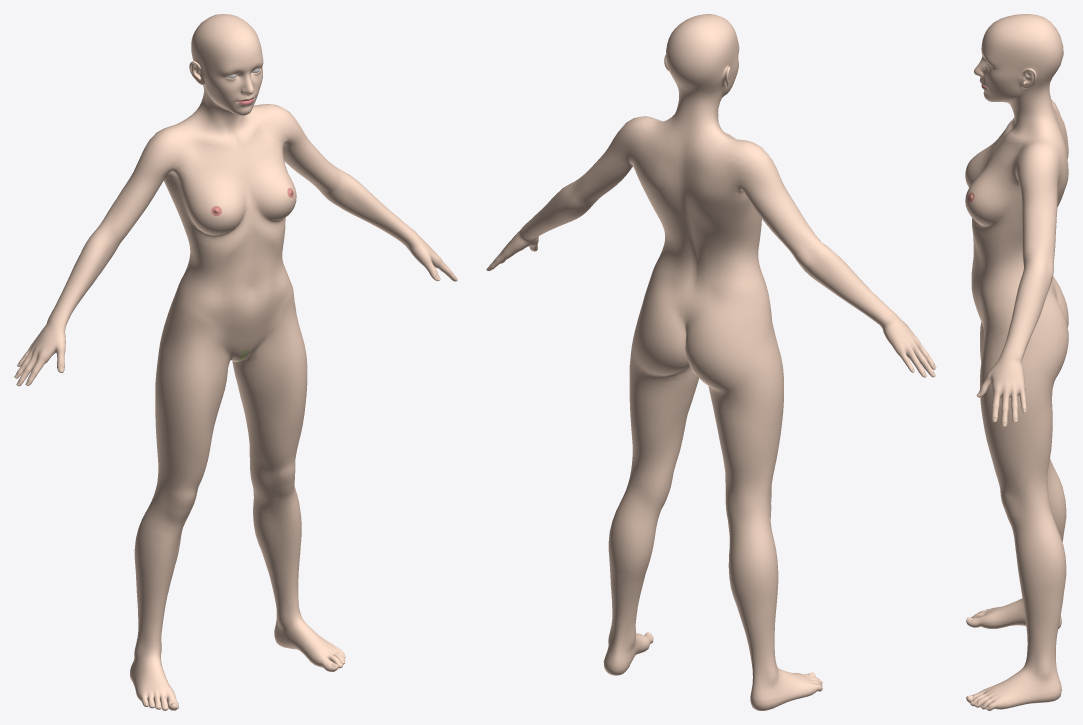
Rendered from Character_1.fbx.
3 renders of one model, left to right at view 1: azimuth 30°, elevation 25°; view 2: azimuth 150°, elevation 25°; view 3: azimuth 270°, elevation 25°, orthographic. The views are drawn at different scales.
Parts seen in each view (by area): view 1: Genesis8Female_Shape; view 2: Genesis8Female_Shape; view 3: Genesis8Female_Shape.
Boxes of the visible parts, x1,y1,x2,y2 form: Genesis8Female_Shape: (14, 14, 457, 710); Genesis8Female_Shape: (486, 14, 936, 710); Genesis8Female_Shape: (965, 14, 1068, 710).
Bounding box in the file's own units: 126 × 179 × 25.87.
